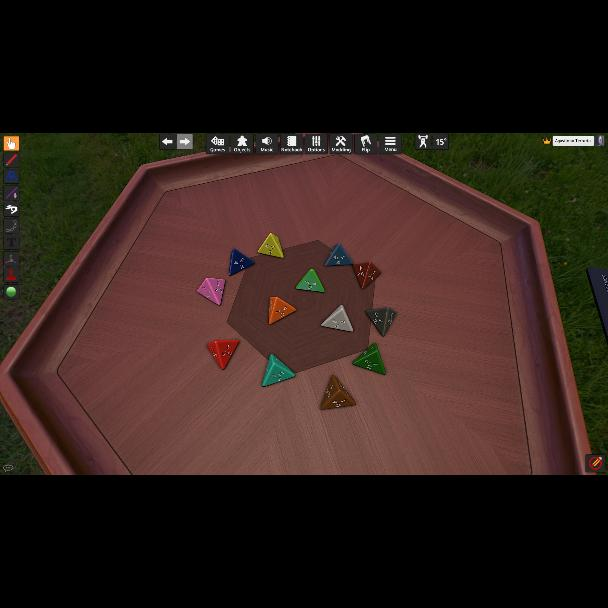d4: (319, 374, 354, 410), (262, 354, 296, 388), (352, 344, 384, 375), (206, 340, 238, 370), (365, 307, 395, 337), (268, 297, 296, 325), (322, 306, 352, 332), (354, 260, 380, 290), (197, 278, 224, 306), (229, 249, 254, 277), (296, 269, 323, 293), (258, 234, 284, 258), (325, 244, 352, 266)
